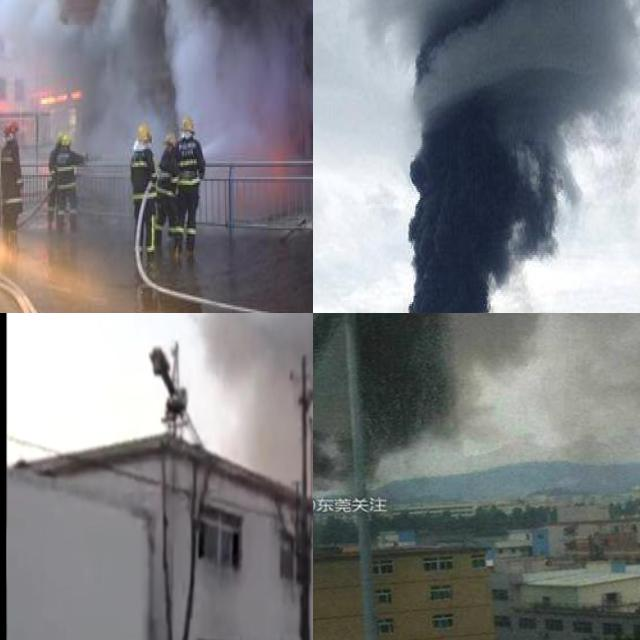fire: (37, 84, 79, 104)
smoke: (313, 313, 640, 640), (402, 0, 640, 313), (198, 313, 313, 542), (177, 0, 313, 151)
